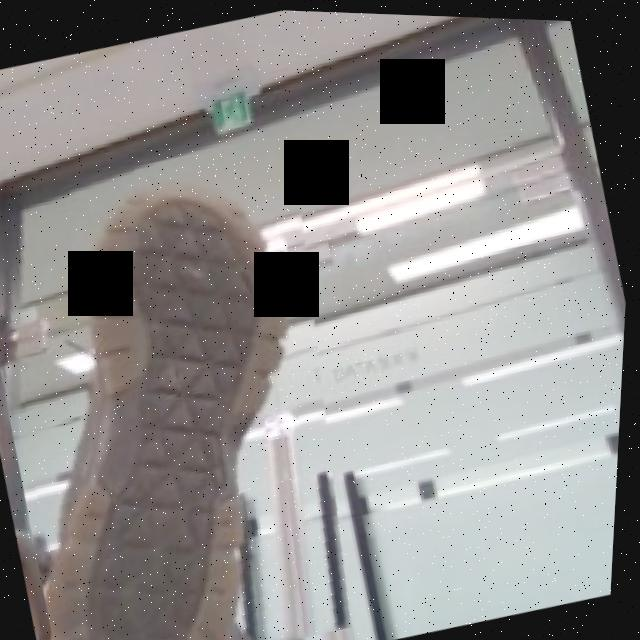shoe: (0, 121, 414, 640)
